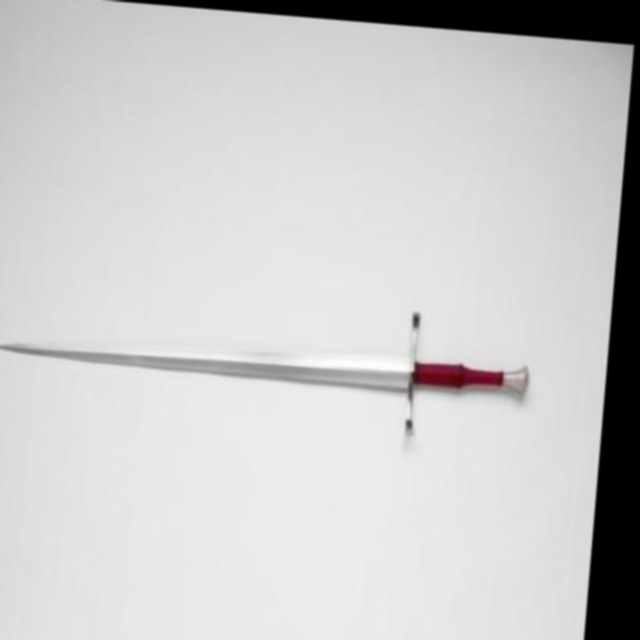Sharp-Object: (0, 312, 544, 424)
